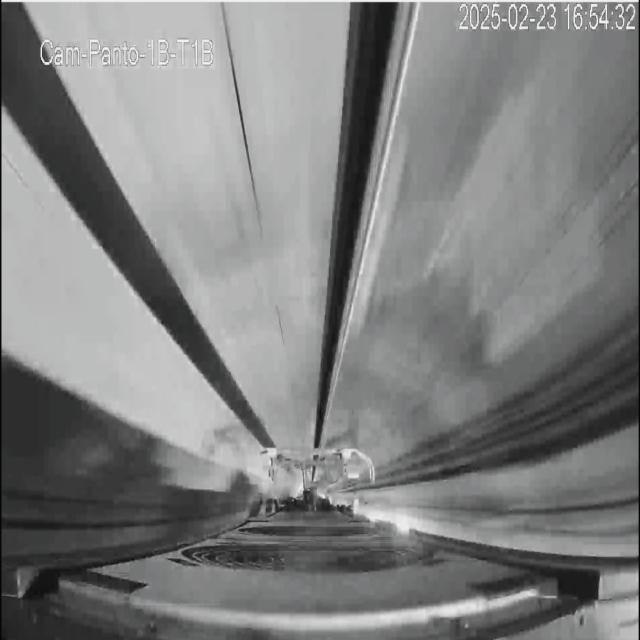Camera Stamp: (37, 30, 220, 71)
Date Stamp: (456, 3, 636, 33)
